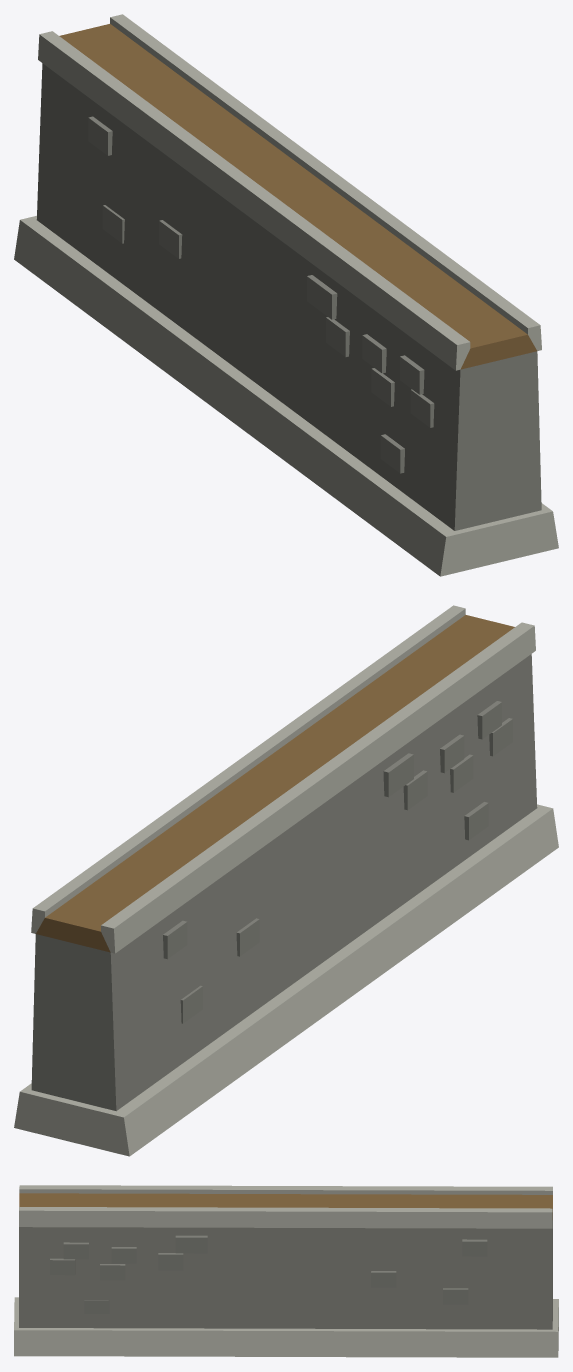
Rendered from p4_lev2.glb.
The picture shows the model from 3 angles, top to bottom: view 1: azimuth 30°, elevation 25°; view 2: azimuth 150°, elevation 25°; view 3: azimuth 270°, elevation 25°; orthographic projection. The views are drawn at different scales.
Parts seen in each view (by area): view 1: Wall_SecondAge.003; view 2: Wall_SecondAge.003; view 3: Wall_SecondAge.003.
Part boxes in pixels (bbox=[...]): Wall_SecondAge.003: bbox=[14, 14, 558, 576]; Wall_SecondAge.003: bbox=[14, 605, 558, 1156]; Wall_SecondAge.003: bbox=[14, 1185, 558, 1357].
Size of the model in its own units: 8.71 by 15.06 by 52.75.
